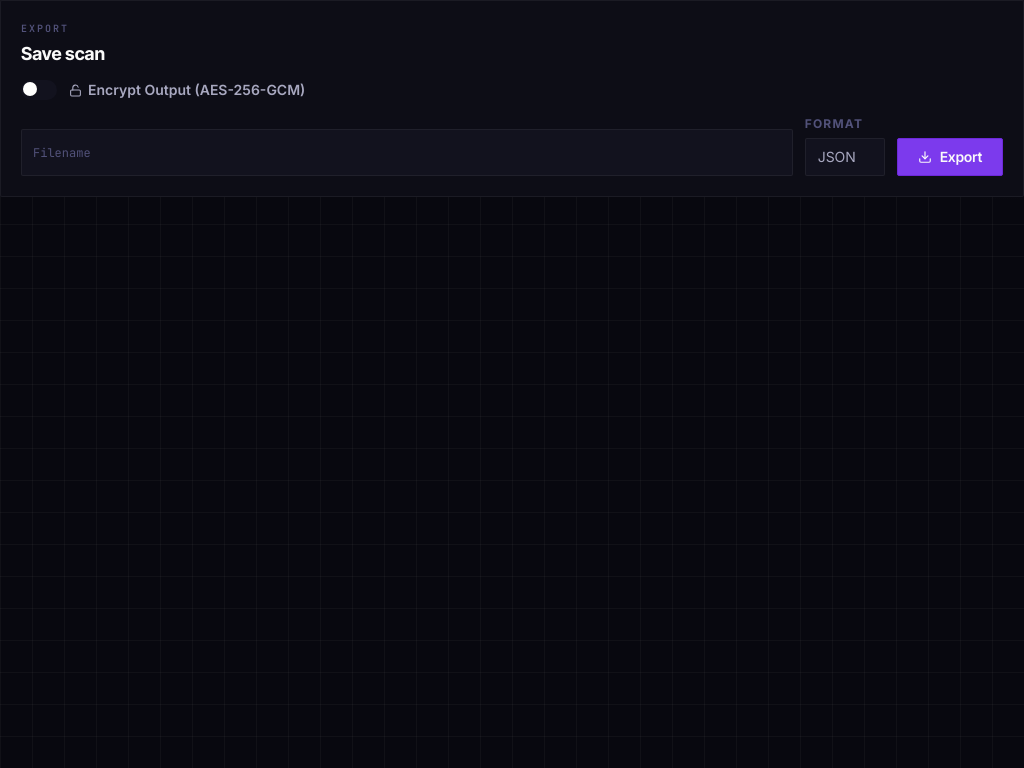
Test: ScanExportPanel — encryption › refuses to export with encryption on and no password
The image size is (1024, 768).
Click the button with aria-label "Toggle AES-256-GCM encryption" at (163, 90), box [21,80,305,100]
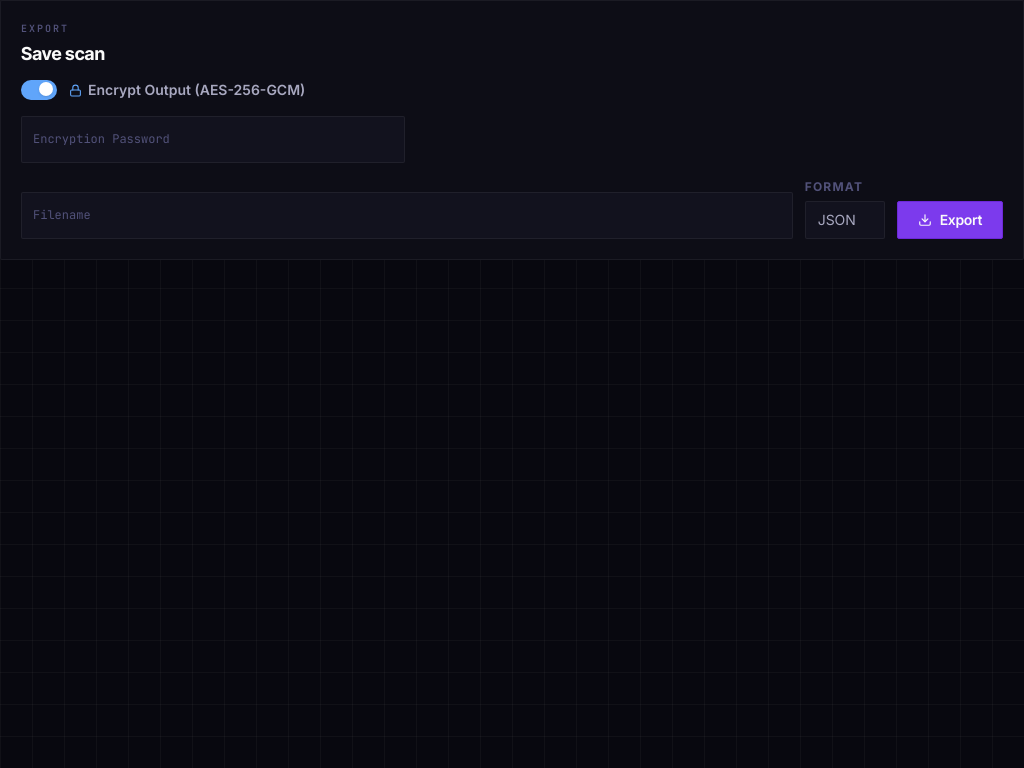
Click the button "Export" at (950, 220), box [897,201,1003,239]
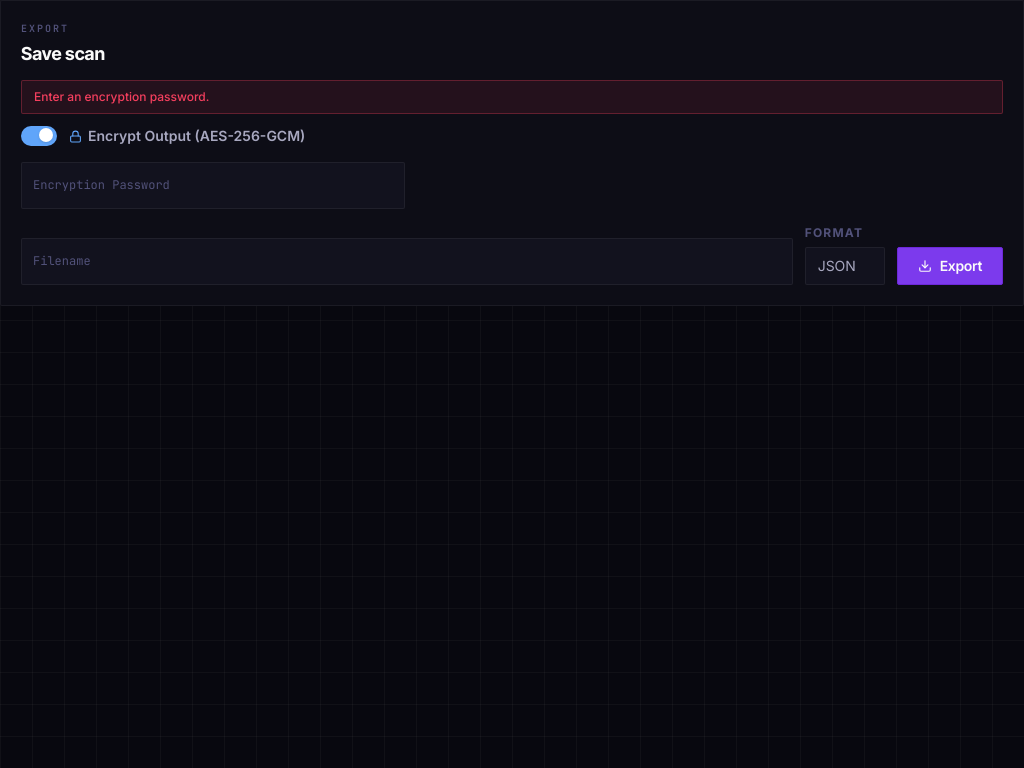
Expected: the message reads "Enter an encryption password.", [34,89,209,104]
